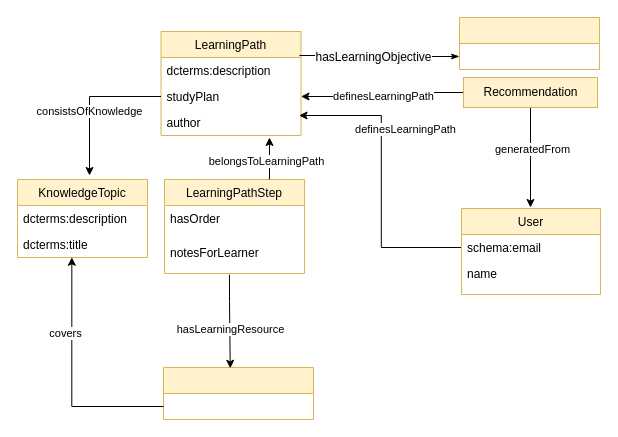
The diagram is 618 pixels wide and 437 high, and some of its shapes have lost their labels. The centre of each missing label's shape, as x and y in pixels:
EducationalResource: the point at 238,393
LearningObjective: the point at 529,43
